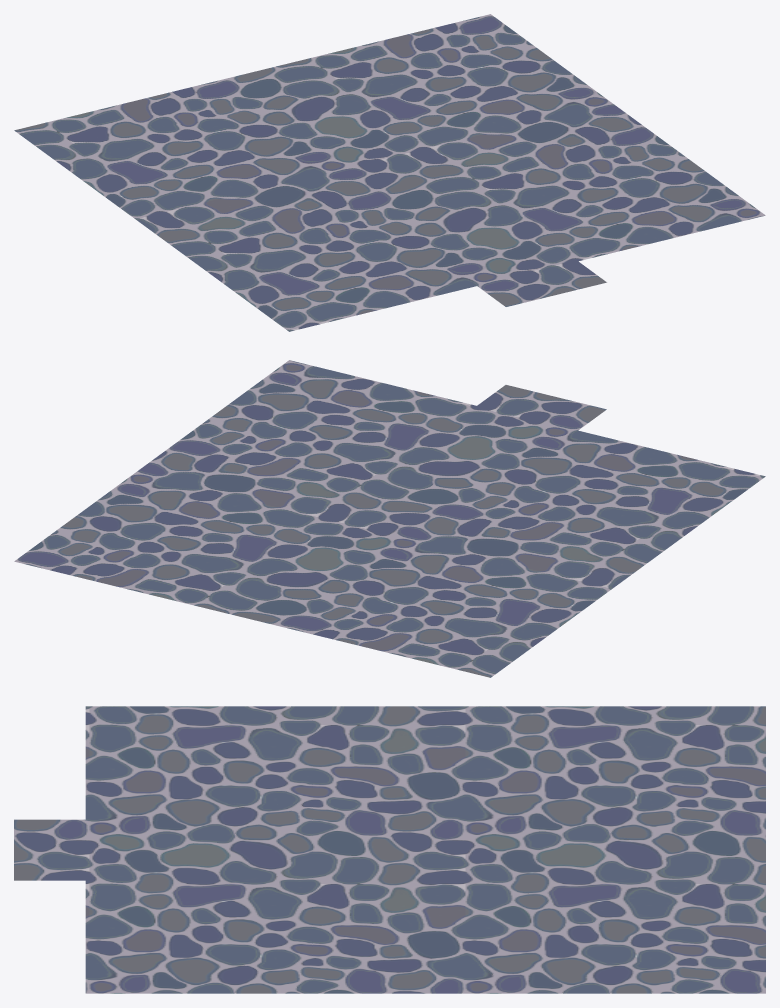
The model's file is Floor04_e01.FBX.
3 renders of one model, top to bottom at view 1: azimuth 30°, elevation 25°; view 2: azimuth 150°, elevation 25°; view 3: azimuth 270°, elevation 25°, orthographic. The views are drawn at different scales.
Parts seen in each view (by area): view 1: Floor04_e01; view 2: Floor04_e01; view 3: Floor04_e01.
Part boxes in pixels (x1=…): Floor04_e01: x1=14, y1=14, x2=765, y2=331; Floor04_e01: x1=14, y1=360, x2=765, y2=677; Floor04_e01: x1=14, y1=706, x2=765, y2=993.
Bounding box in the file's own units: 900 × 0.000446 × 995.
1 material, 1 textured.
